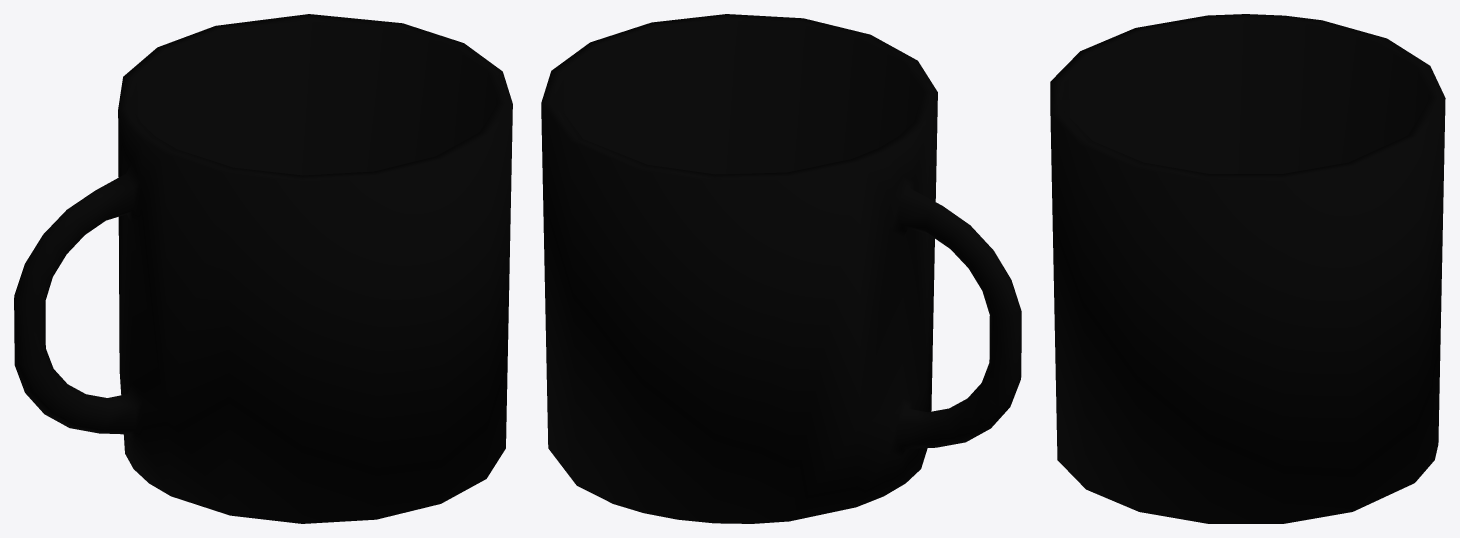
The model's file is mugblack.glb.
3 renders of one model, left to right at view 1: azimuth 30°, elevation 25°; view 2: azimuth 150°, elevation 25°; view 3: azimuth 270°, elevation 25°, orthographic.
Visible parts, largest first — view 1: mugblack; view 2: mugblack; view 3: mugblack.
Part boxes in pixels (bbox=[...]): mugblack: bbox=[14, 14, 512, 523]; mugblack: bbox=[541, 14, 1021, 523]; mugblack: bbox=[1050, 14, 1445, 523].
Bounding box in the file's own units: 0.1831 × 0.1316 × 0.1356.
Materials: 1 (1 with a texture image).
